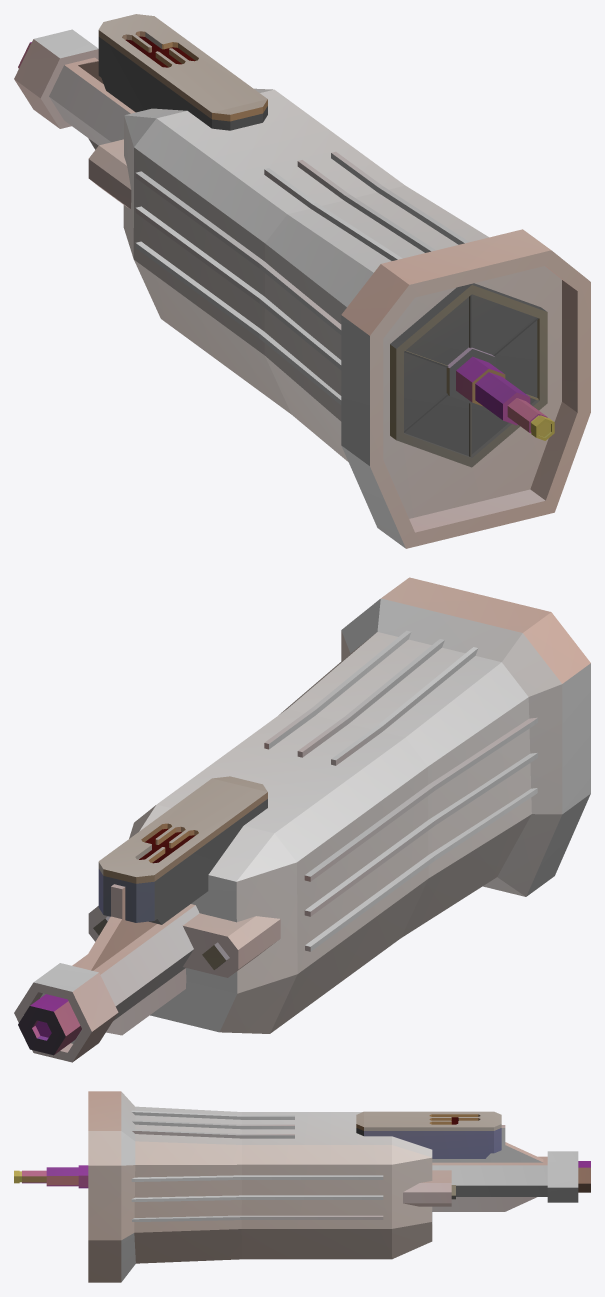
Rendered from GearboxLvl1.fbx.
3 renders of one model, top to bottom at view 1: azimuth 30°, elevation 25°; view 2: azimuth 150°, elevation 25°; view 3: azimuth 270°, elevation 25°, orthographic. The views are drawn at different scales.
Visible parts, largest first — view 1: gearbox_lvl1; view 2: gearbox_lvl1; view 3: gearbox_lvl1.
Part boxes in pixels (x1=…): gearbox_lvl1: x1=14, y1=14, x2=590, y2=548; gearbox_lvl1: x1=14, y1=577, x2=590, y2=1062; gearbox_lvl1: x1=14, y1=1091, x2=590, y2=1282.
Size of the model in its own units: 0.5945 by 0.6764 by 2.35.
